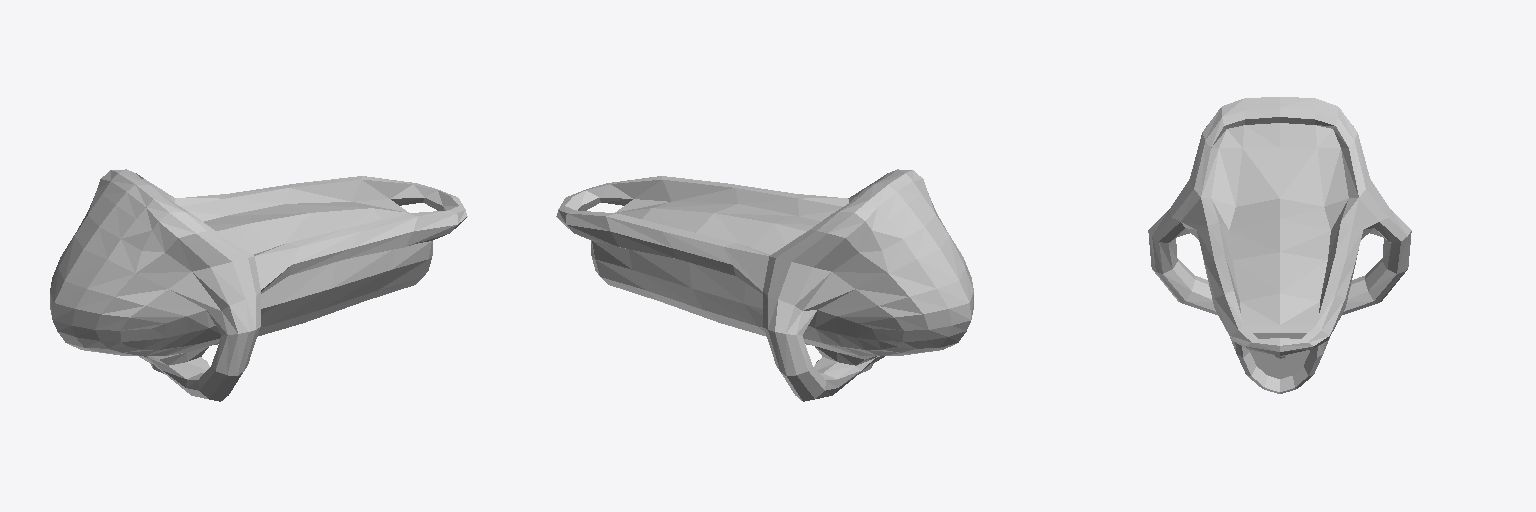
File: dive_scooter_Propeller2.obj
3 renders of one model, left to right at view 1: azimuth 30°, elevation 25°; view 2: azimuth 150°, elevation 25°; view 3: azimuth 270°, elevation 25°, orthographic.
Visible parts, largest first — view 1: dive_scooter Propeller2; view 2: dive_scooter Propeller2; view 3: dive_scooter Propeller2.
Part boxes in pixels (bbox=[...]): dive_scooter Propeller2: bbox=[50, 169, 467, 401]; dive_scooter Propeller2: bbox=[556, 169, 973, 401]; dive_scooter Propeller2: bbox=[1148, 97, 1411, 393].
Bounding box in the file's own units: 136 × 64.5 × 76.44.